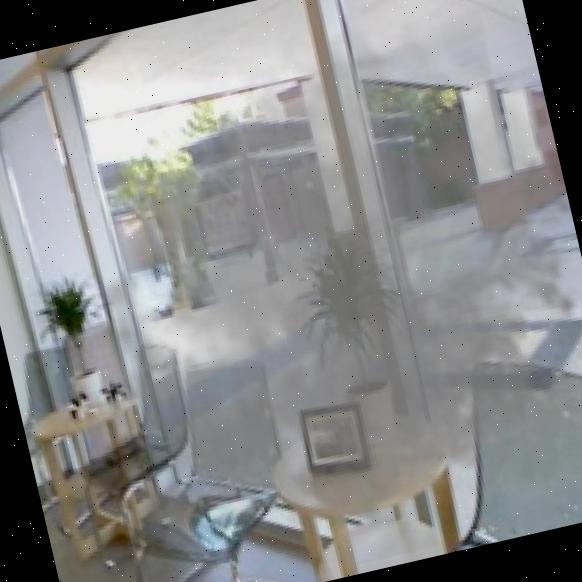smoke: (16, 0, 582, 582)
